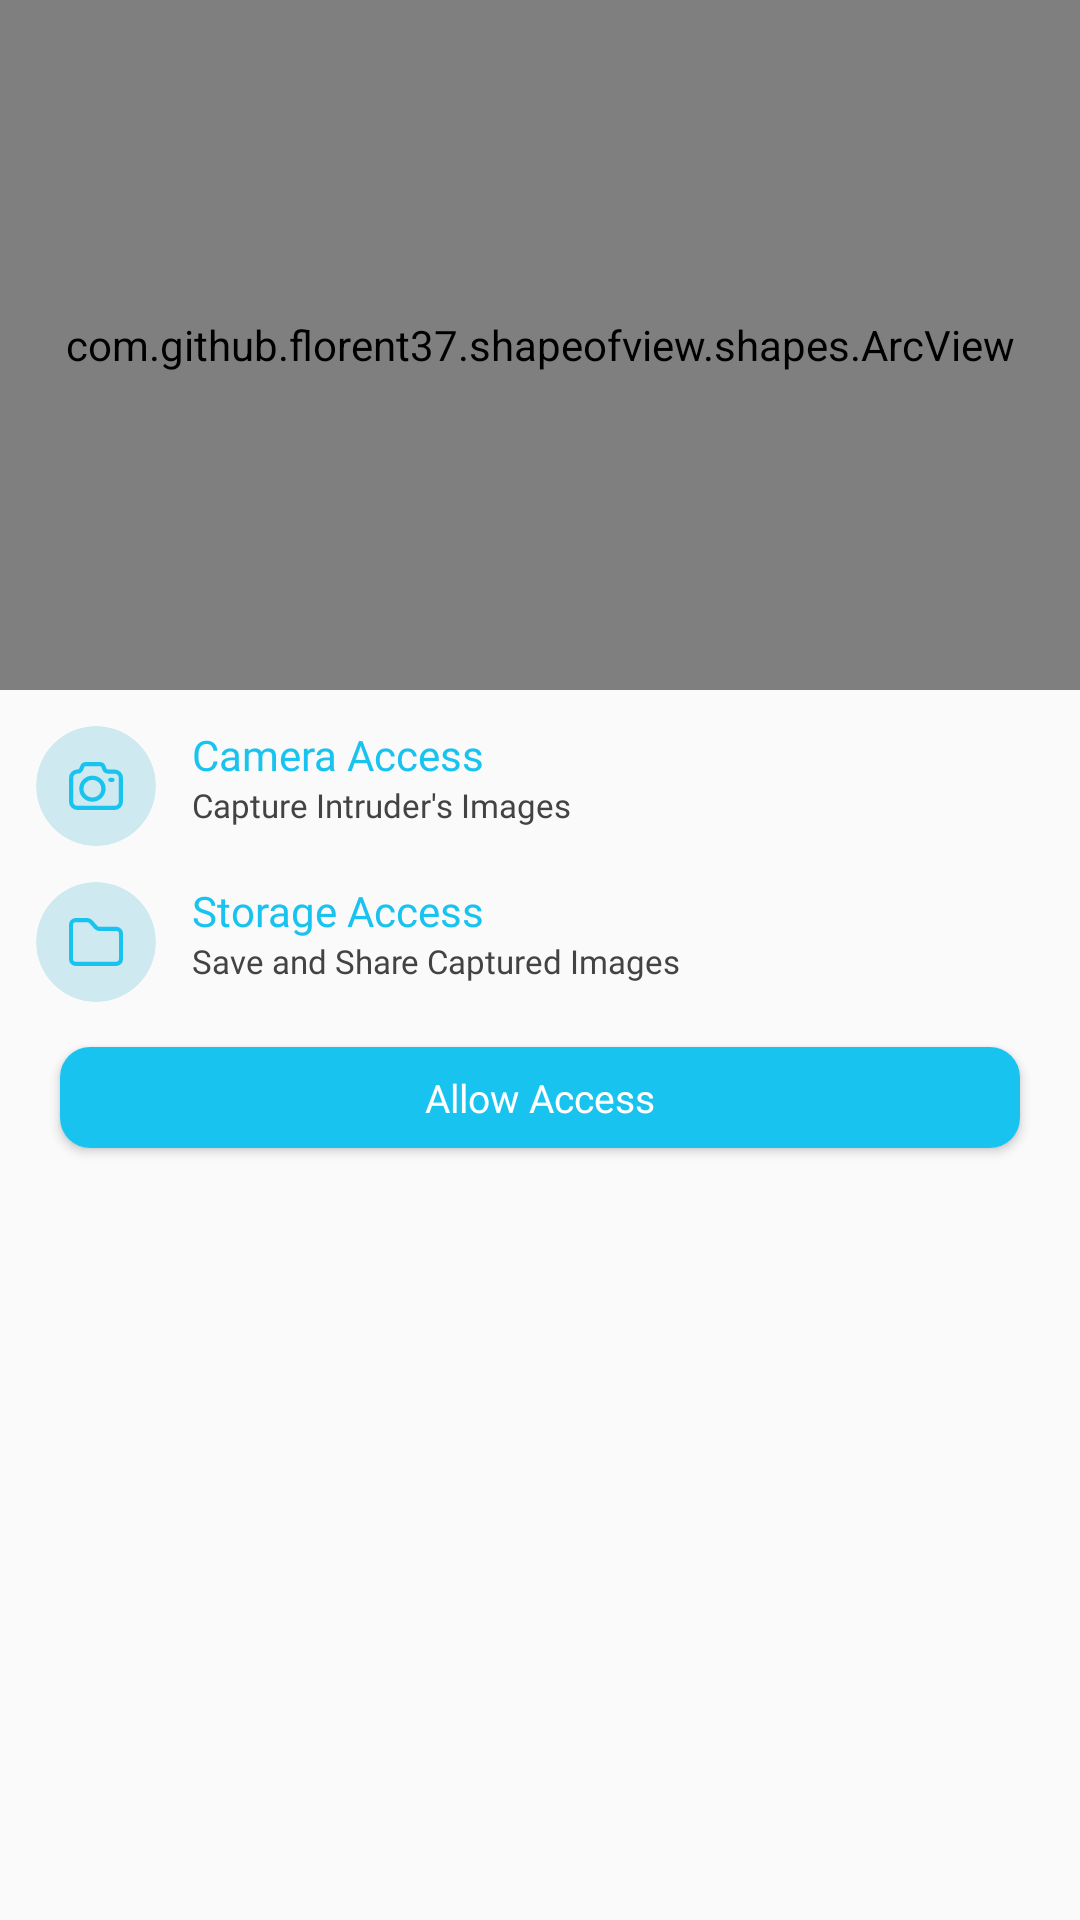

Where to tap for icons on this 1080x1920 app screen, as point (x, y):
folder: point (96, 942)
